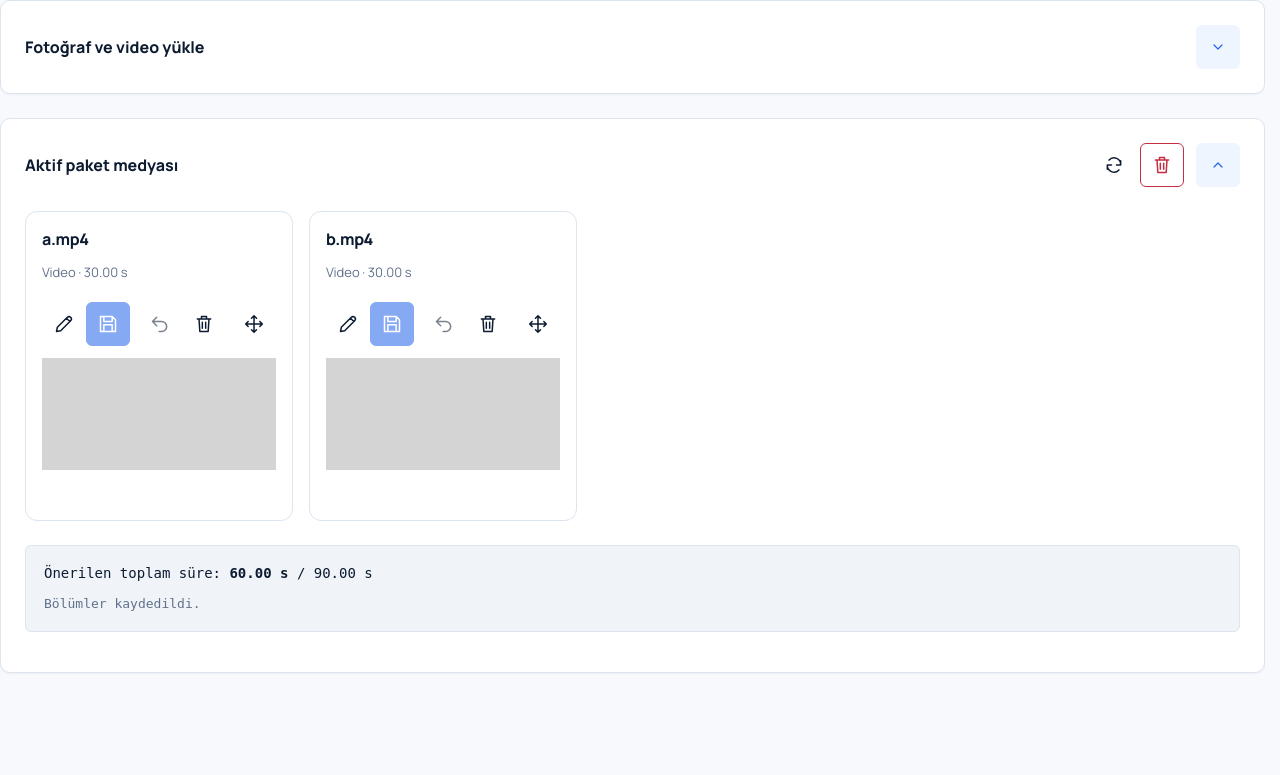
Scenario: conflicting video offers explicit local or server choice without writing
Expected: the heading "a.mp4" is shown, [42, 228, 89, 250]
Expected: the button named "a.mp4 sırasını sürükle" is enabled, [232, 302, 276, 346]
Click the button named "a.mp4 bölümlerini düzenle" at (64, 324), box [42, 302, 86, 346]
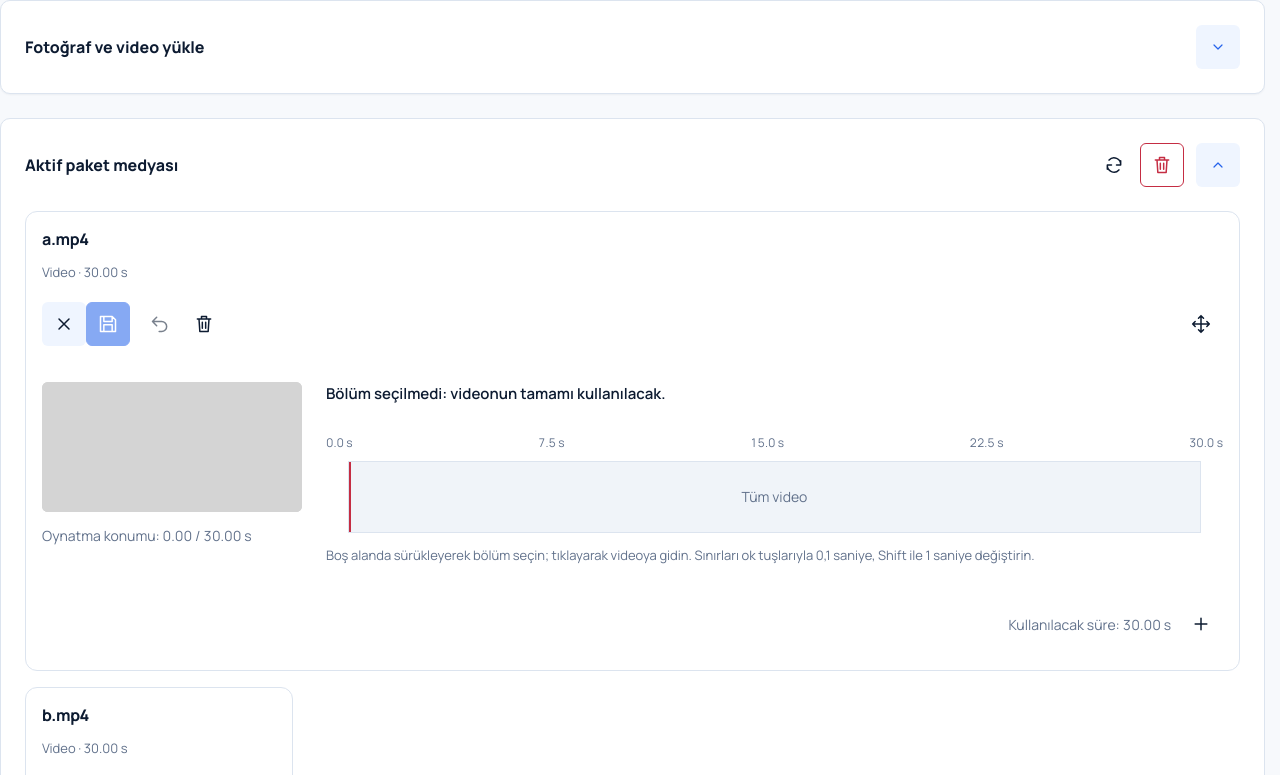
Click the button named "Bölüm ekle" at (1201, 624), box [1179, 602, 1223, 646]
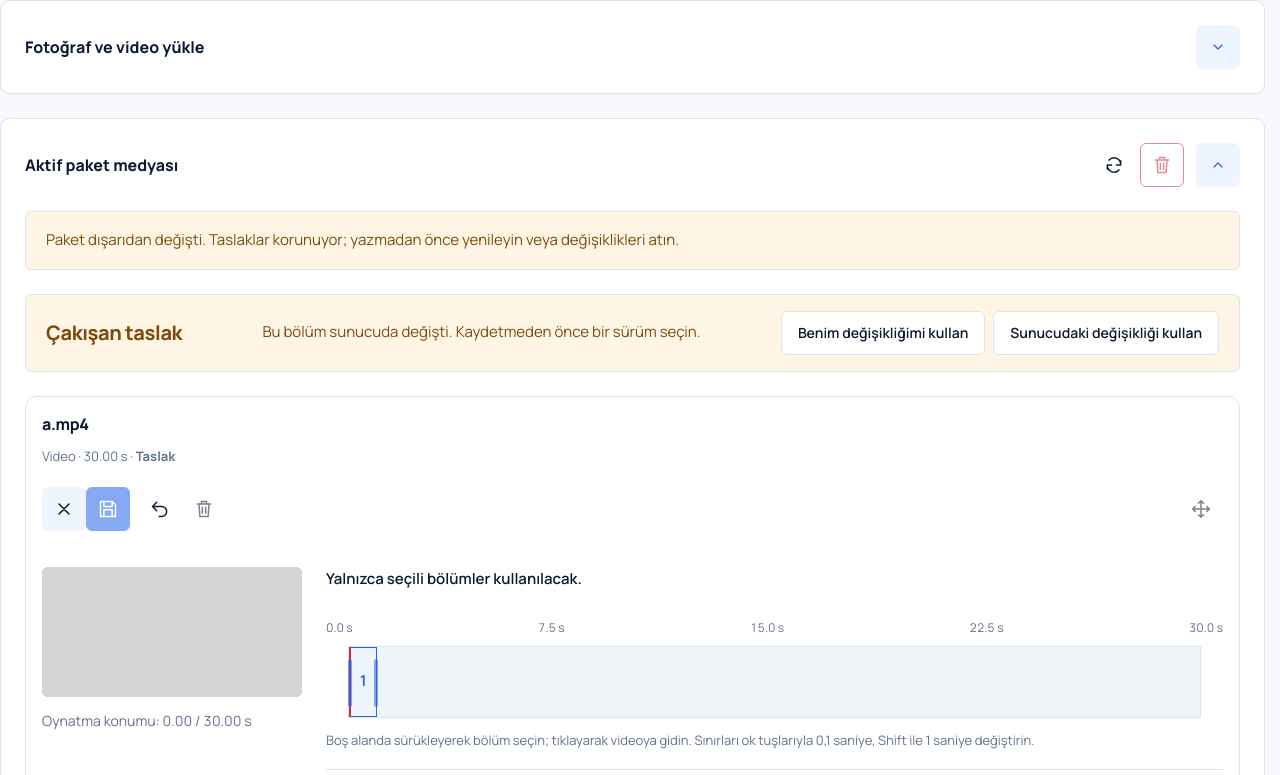
Click the button "Benim değişikliğimi kullan" at (883, 333), box [781, 311, 985, 355]
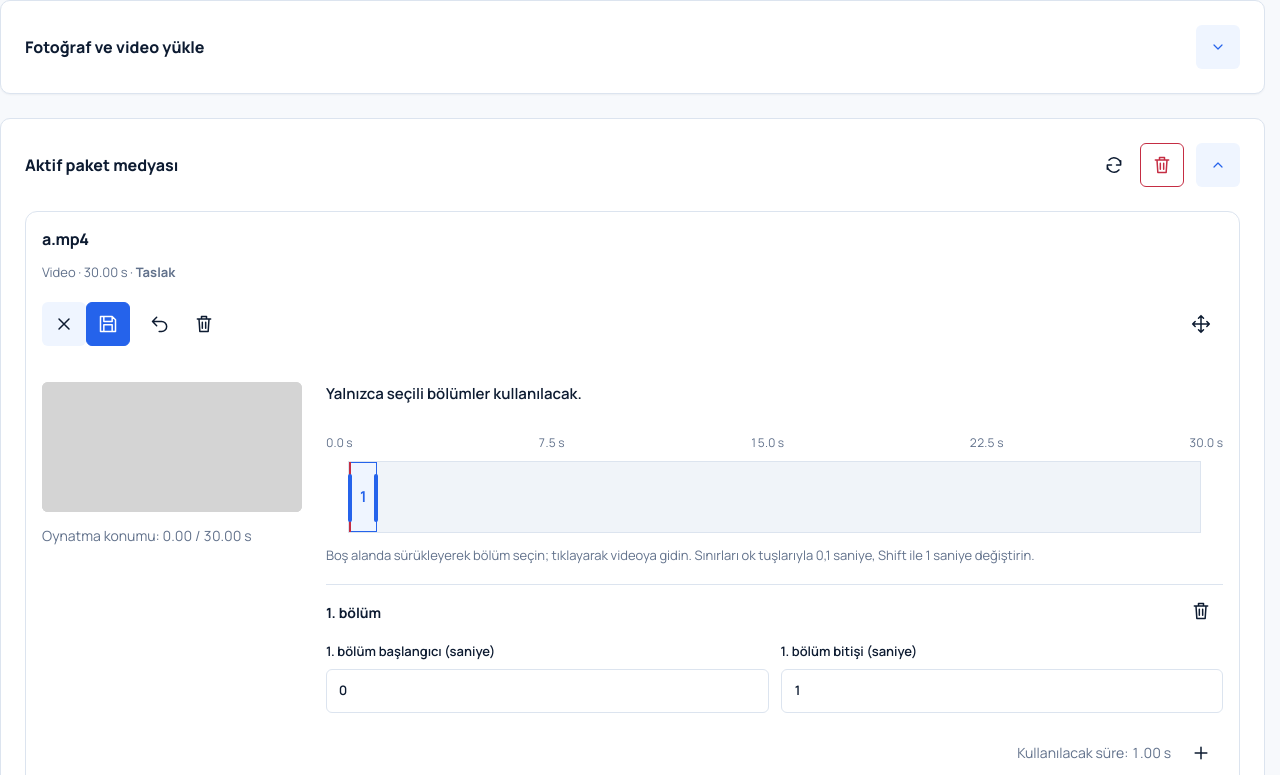
Expected: the field labelled "1. bölüm bitişi (saniye)" holds "1", [780, 669, 1223, 713]
Expected: the button named "Bölümleri kaydet" is enabled, [86, 302, 130, 346]
